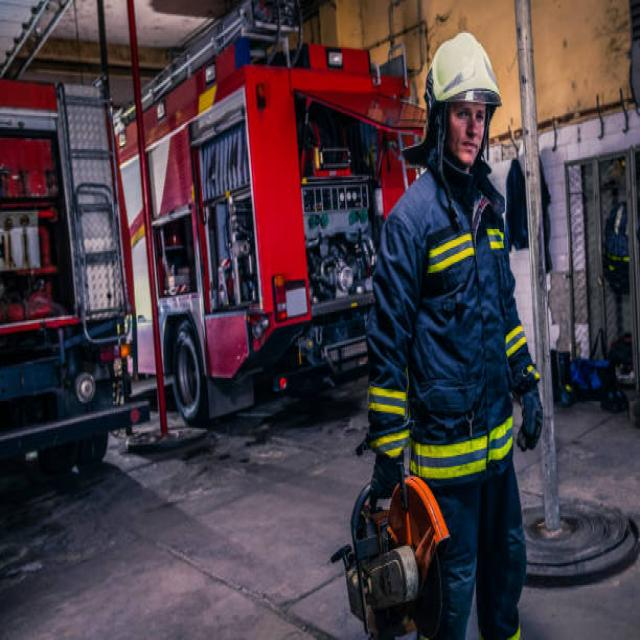Gloves: (363, 449, 413, 510), (516, 376, 552, 452)
helmet: (425, 31, 502, 105)
person: (366, 29, 546, 640)
